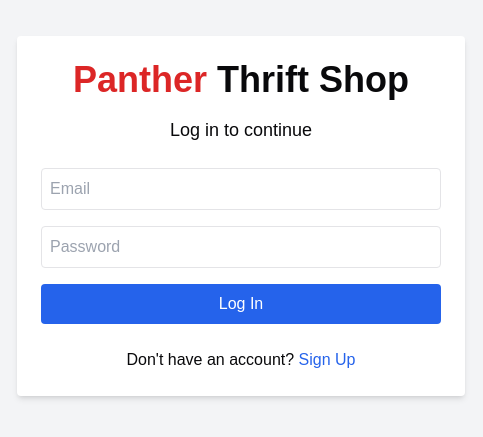
Test: Login Component › redirects to BrowsePage after successful login
The width and height of the screenshot is (483, 437).
# Simulate user input
Type "test@example.com" into the field with placeholder "Email" at (241, 189), box 41,168 -> 441,210
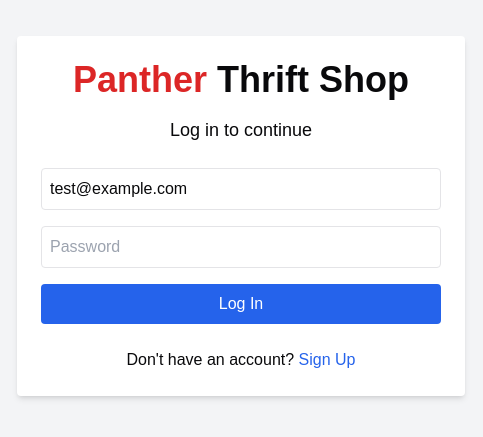
Type "password123" into the password field with placeholder "Password" at (241, 247), box 41,226 -> 441,268
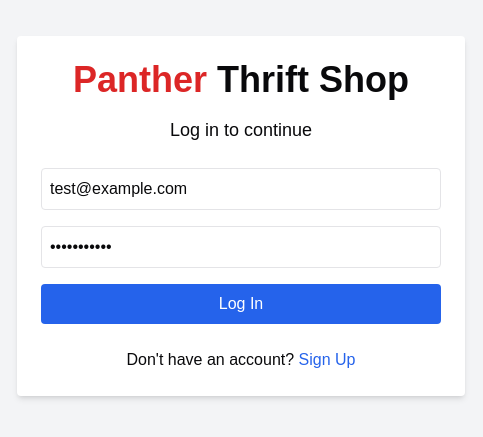
# Click the login button
Click the button "Log In" at (241, 304), box 41,284 -> 441,324
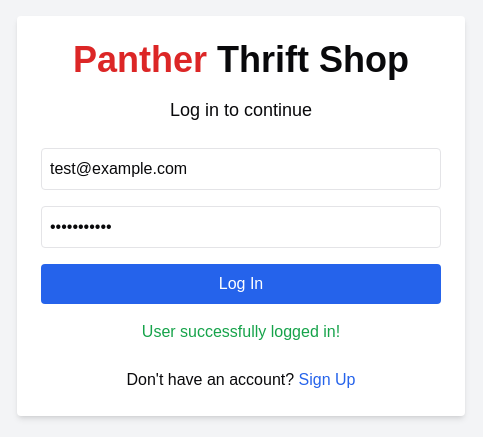
Result: the text "User successfully logged in!" is shown at 142,323 -> 340,340
